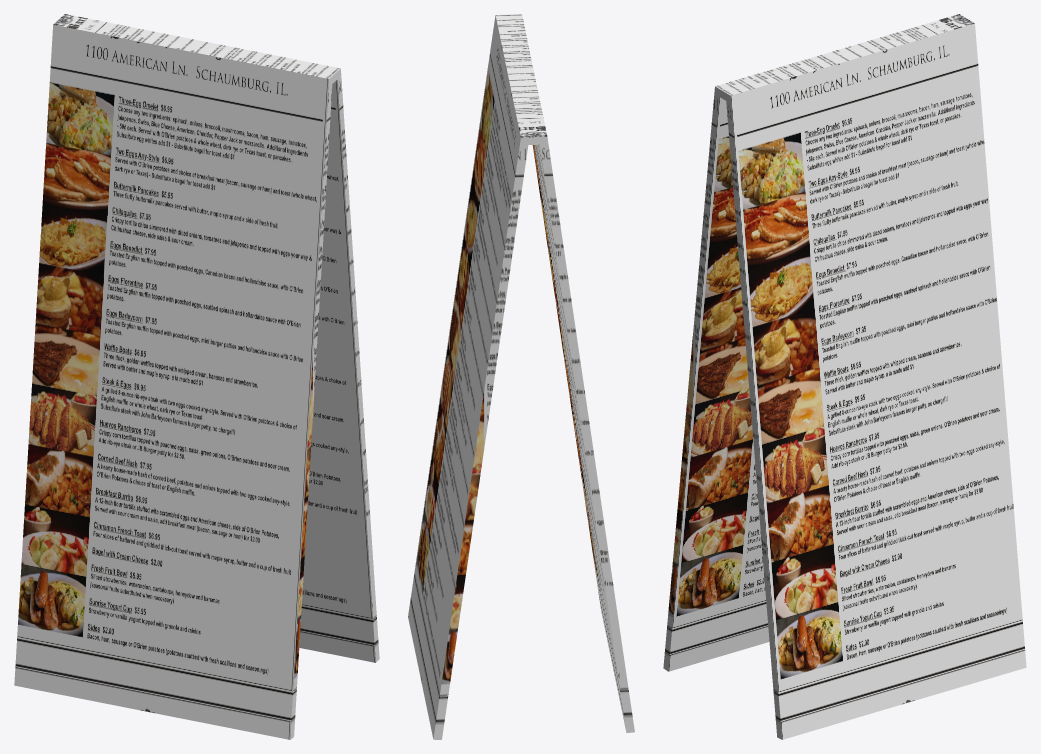
Rendered from TableMenu.FBX.
3 views of the same model, side by side, from view 1: azimuth 30°, elevation 25°; view 2: azimuth 150°, elevation 25°; view 3: azimuth 270°, elevation 25° (orthographic). The views are drawn at different scales.
Visible parts, largest first — view 1: Box139; view 2: Box139; view 3: Box139.
Boxes of the visible parts, x1,y1,x2,y2 form: Box139: (14, 14, 379, 739); Box139: (408, 14, 634, 739); Box139: (663, 14, 1026, 739).
Size of the model in its own units: 2.01 by 4 by 2.15.
Materials: 1 (1 with a texture image).
